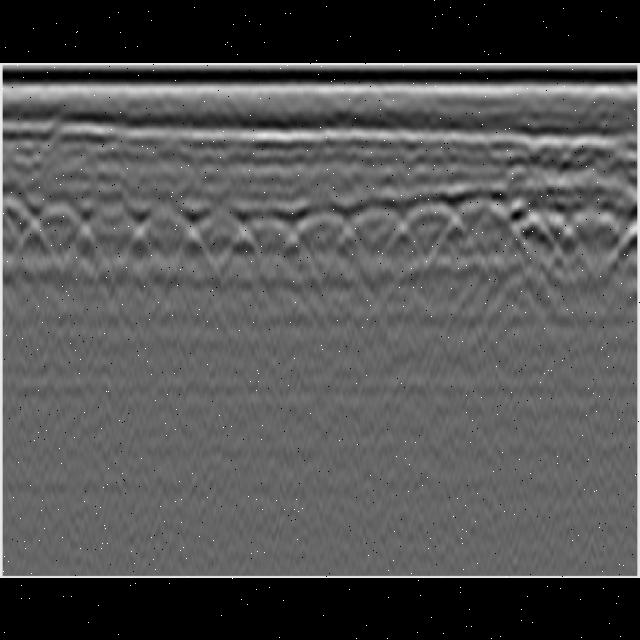hyperbola: (449, 196, 511, 268), (134, 204, 196, 270), (400, 200, 460, 268), (236, 217, 300, 279), (187, 209, 246, 275), (344, 206, 404, 270), (293, 204, 352, 266), (85, 199, 139, 263), (31, 198, 91, 248), (3, 191, 41, 245)
